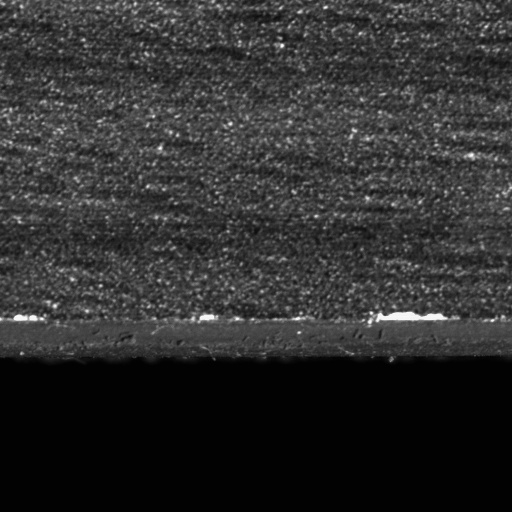huashang: (371, 311, 450, 323), (11, 313, 46, 321)
